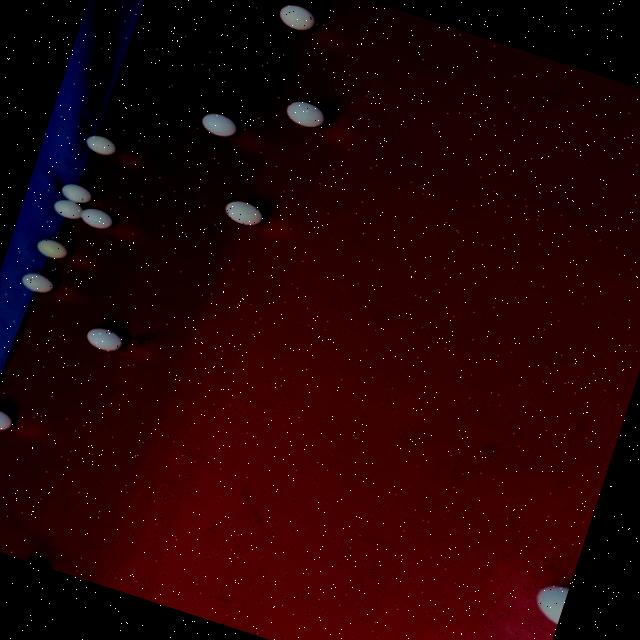ping-pong-ball: (6, 258, 74, 308), (274, 91, 339, 140), (520, 574, 570, 632), (214, 190, 276, 236), (188, 100, 250, 144), (21, 228, 77, 268), (266, 0, 323, 38), (76, 321, 130, 358), (72, 199, 123, 238), (54, 176, 100, 208), (80, 127, 122, 161), (46, 193, 88, 224), (0, 396, 24, 442)
